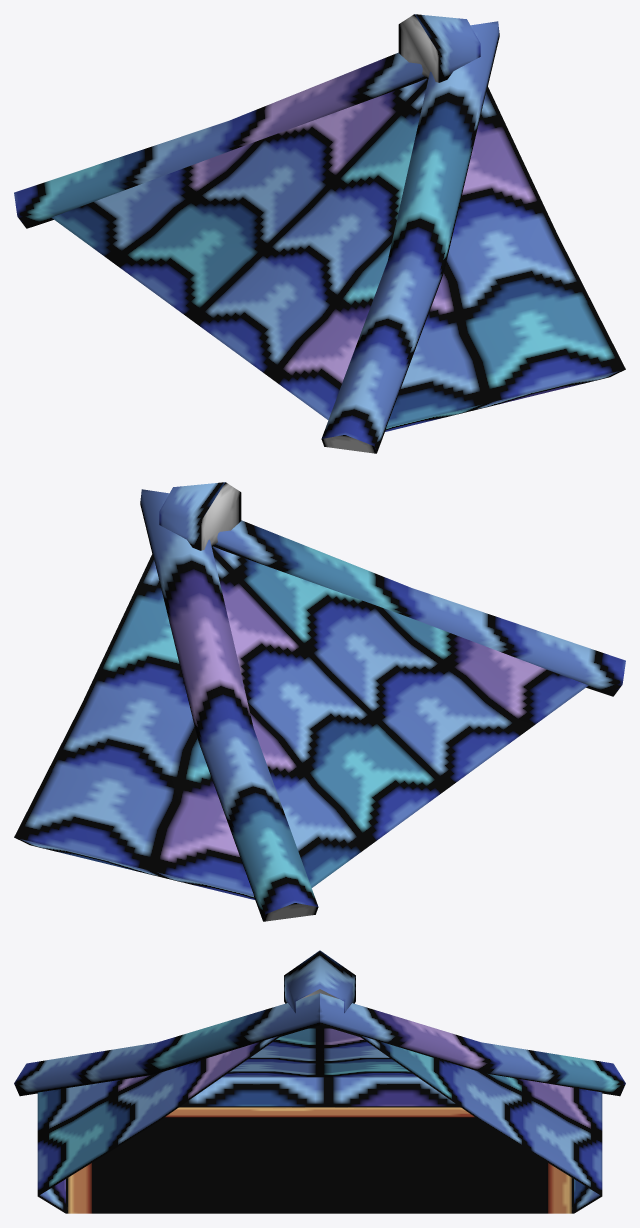
The model's file is arch_roof_corner_teal.FBX.
3 views of the same model, one above another, from view 1: azimuth 30°, elevation 25°; view 2: azimuth 150°, elevation 25°; view 3: azimuth 270°, elevation 25° (orthographic). The views are drawn at different scales.
Visible parts, largest first — view 1: arch_roof_corner_teal; view 2: arch_roof_corner_teal; view 3: arch_roof_corner_teal.
Part boxes in pixels (bbox=[...]): arch_roof_corner_teal: bbox=[14, 14, 625, 453]; arch_roof_corner_teal: bbox=[14, 482, 625, 921]; arch_roof_corner_teal: bbox=[14, 950, 625, 1213].
Bounding box in the file's own units: 3 × 2.35 × 5.42.
1 material, 1 textured.
